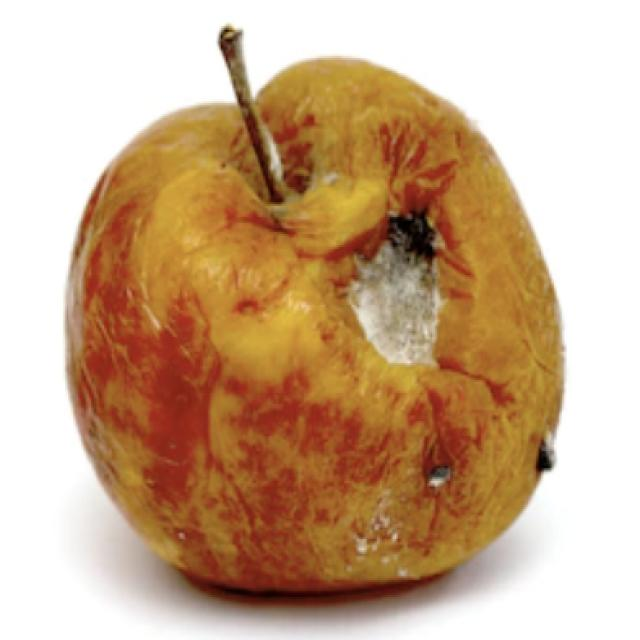rotten_apple: (64, 50, 569, 592)
